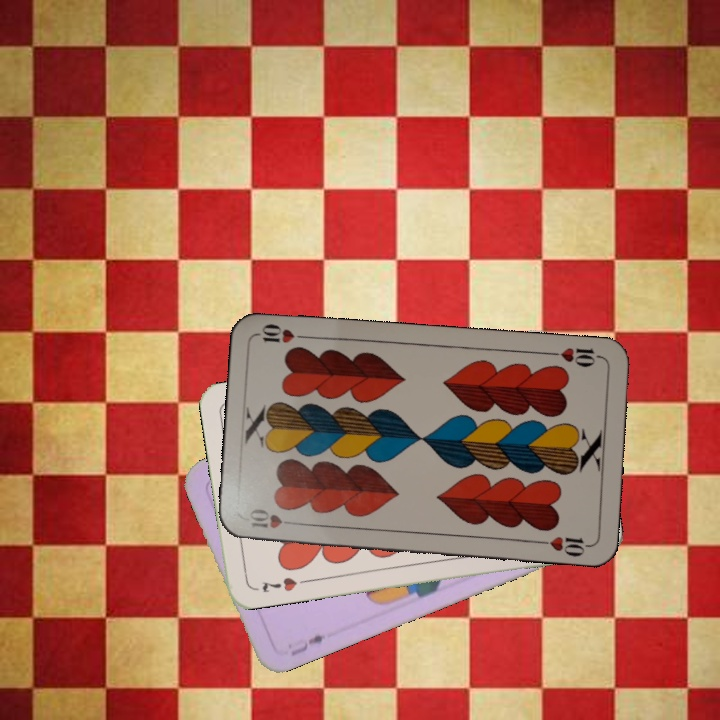EU: (286, 630, 328, 659)
H10: (545, 343, 604, 370), (245, 506, 302, 531)
H7: (258, 573, 299, 595)
